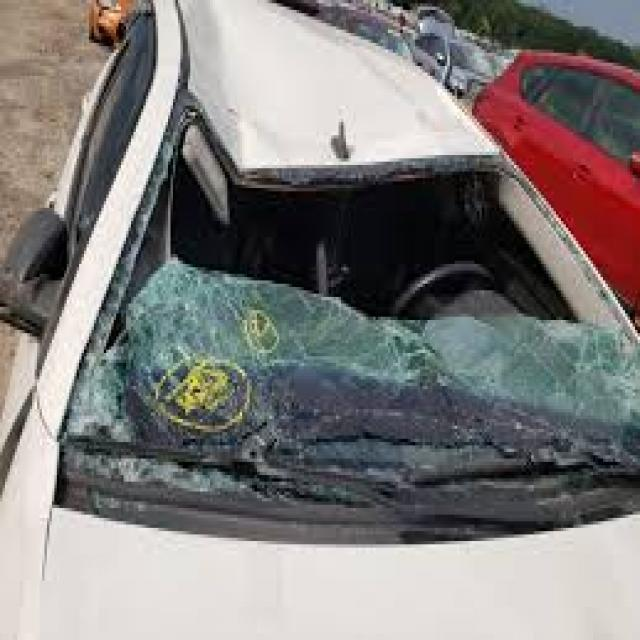damaged-windscreen: (69, 132, 640, 502)
